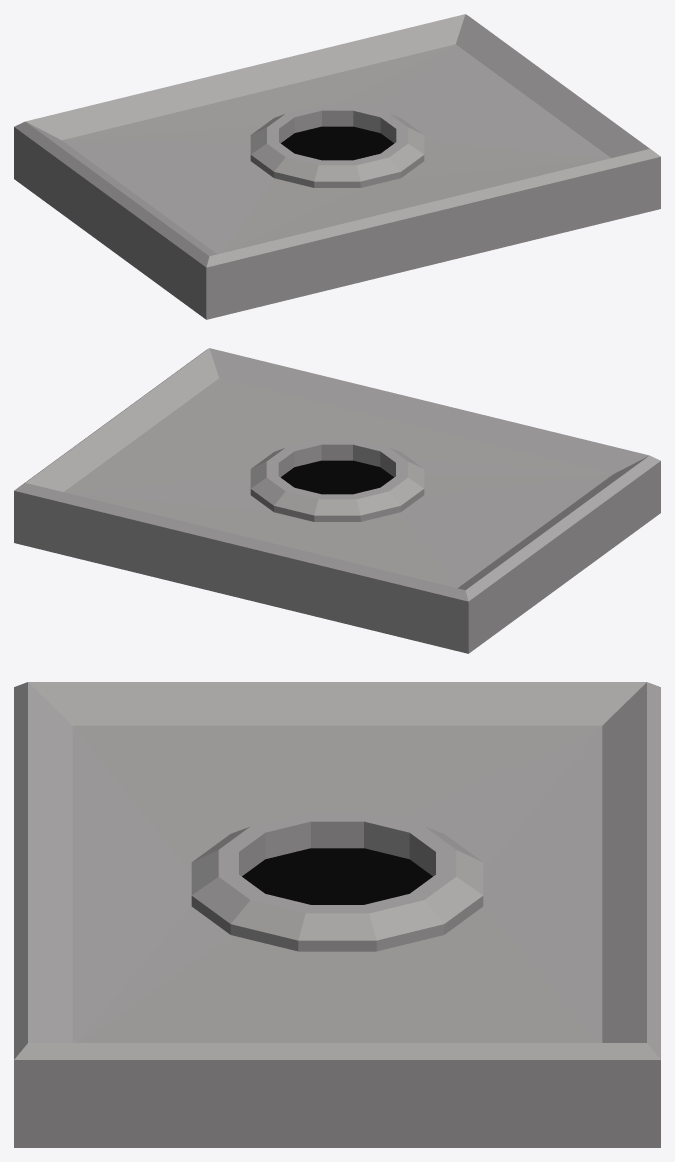
File: SingleSpikeMetalTrap_5.fbx
The picture shows the model from 3 angles, top to bottom: view 1: azimuth 30°, elevation 25°; view 2: azimuth 150°, elevation 25°; view 3: azimuth 270°, elevation 25°; orthographic projection. The views are drawn at different scales.
Parts seen in each view (by area): view 1: SingleSpikeMetalTrap_5; view 2: SingleSpikeMetalTrap_5; view 3: SingleSpikeMetalTrap_5.
Boxes of the visible parts, x1,y1,x2,y2 form: SingleSpikeMetalTrap_5: (14, 14, 660, 319); SingleSpikeMetalTrap_5: (14, 348, 660, 653); SingleSpikeMetalTrap_5: (14, 682, 660, 1147).
Size of the model in its own units: 30 by 3.71 by 22.
